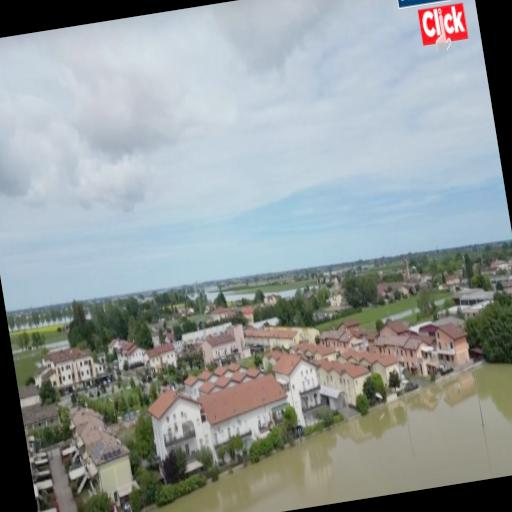flood: (144, 362, 512, 512)
house: (194, 368, 296, 465), (70, 405, 140, 512), (146, 386, 213, 494), (272, 346, 326, 424), (41, 342, 100, 394), (338, 356, 377, 416), (432, 316, 472, 374), (244, 318, 302, 356), (402, 328, 438, 384), (198, 329, 242, 370), (373, 324, 407, 364), (110, 335, 144, 374), (146, 340, 180, 378), (372, 355, 403, 393), (320, 326, 350, 354), (346, 328, 364, 350)
